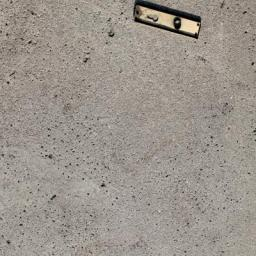FOD: (129, 1, 208, 43)
